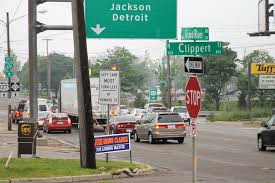leftLaneMustTurn: (100, 70, 120, 92)
oneWay: (182, 55, 204, 74)
stop: (184, 75, 201, 117)
